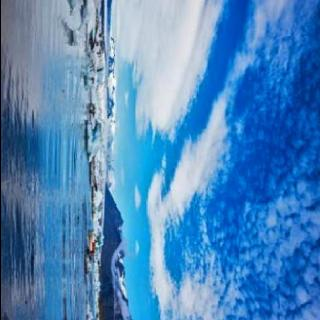Stratus: (113, 0, 320, 320)
